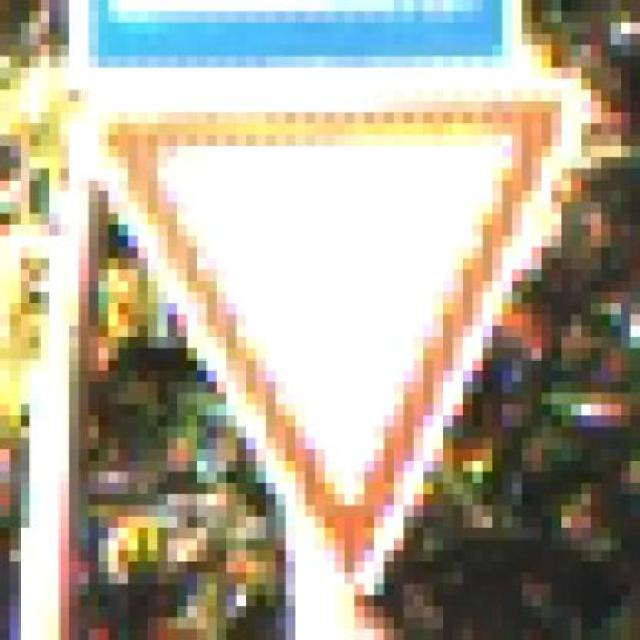Give Way: (79, 67, 610, 618)
